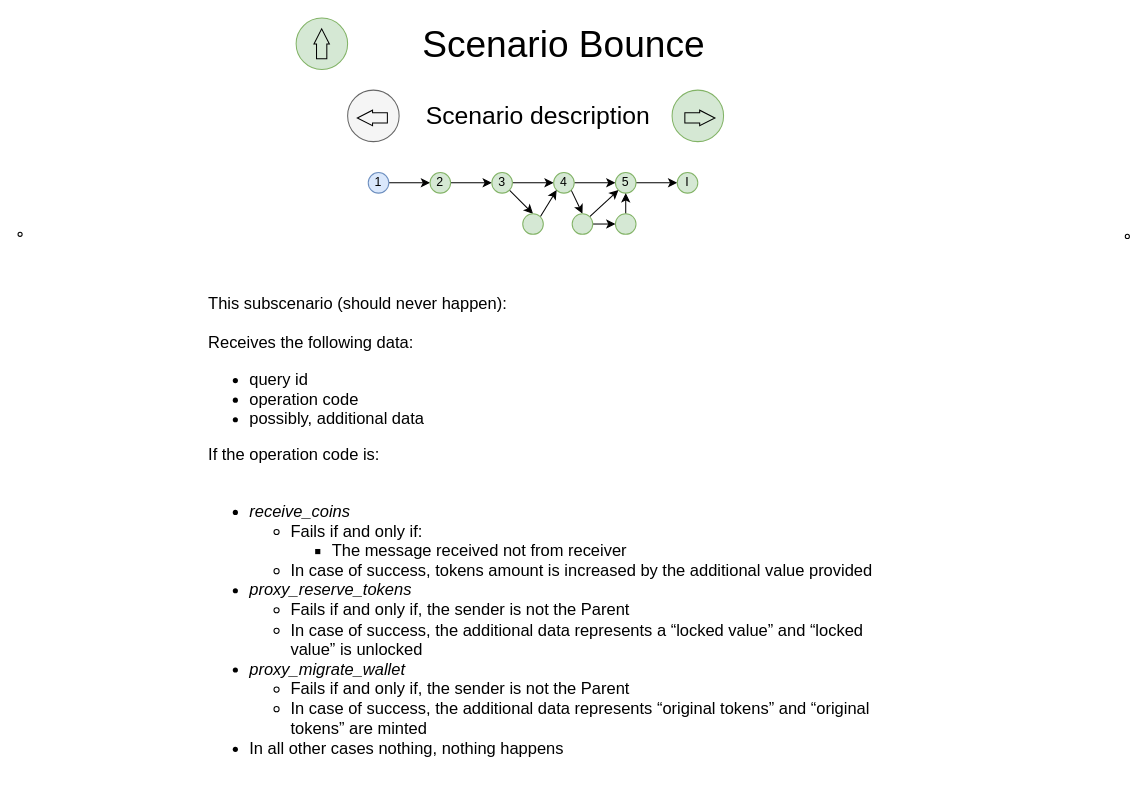
The diagram is 1147 pixels wide and 806 high, and some of its shapes have lost their labels. Here are the shapes that lost their labels. From the top down, the centre of each, then its label:
At point (532, 223): "S1".
At point (582, 223): "T1".
At point (625, 223): "S2".
